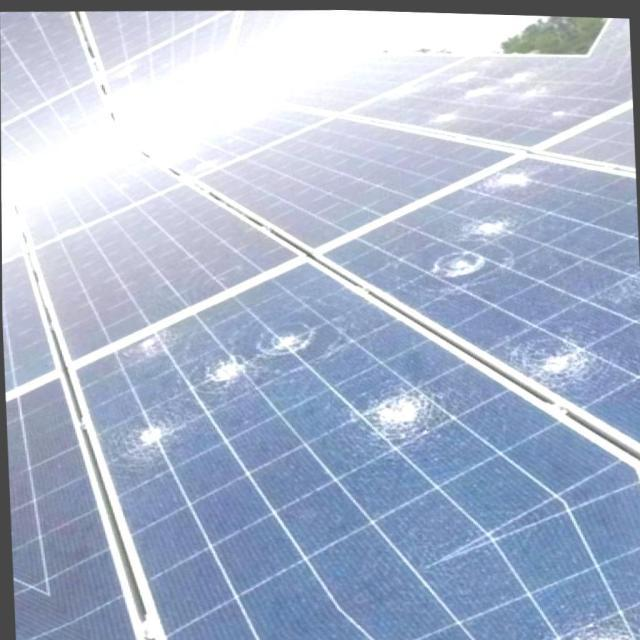cracked: (65, 266, 470, 616), (344, 153, 640, 440)
